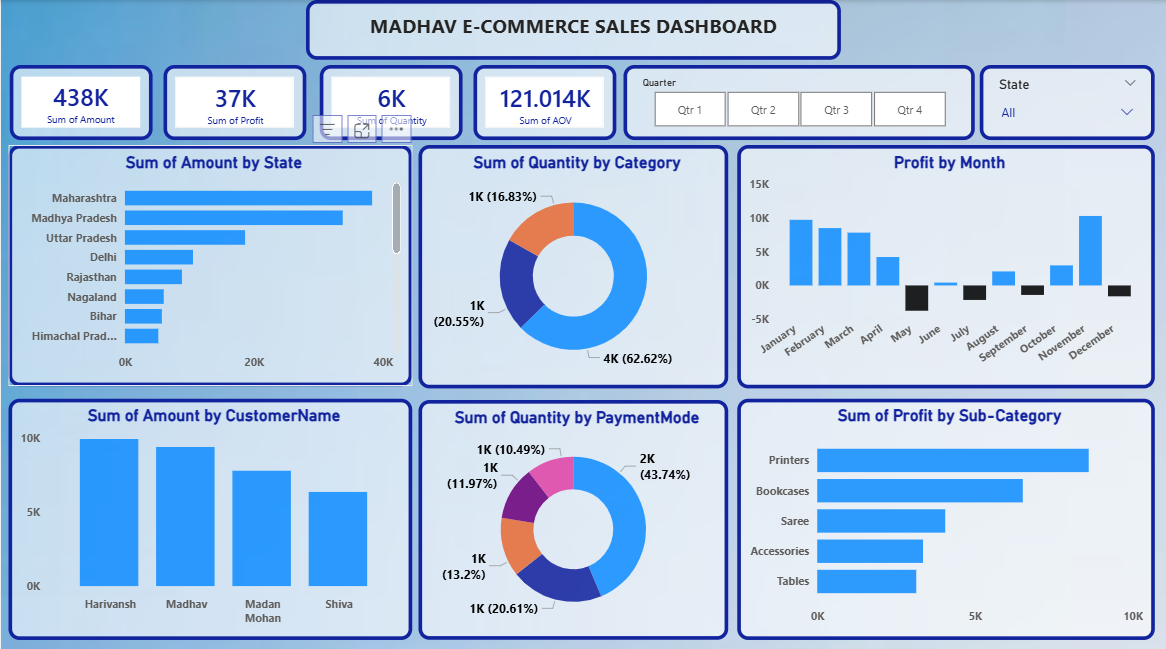

This screenshot's page, from the dashboard's own definition file:
{"tool":"powerbi","page":{"name":"Page 1","canvas":[1280,720],"ordinal":0},"visuals":[{"type":"textbox","box":[334.8,0,587.3,65.9],"z":0},{"type":"columnChart","title":"Profit by Month","fields":{"Y":["Sum(Details.Profit)"],"Category":["Orders.Order Date.Variation.Date Hierarchy.Month"]},"box":[808.2,159.2,458.3,267.6],"z":1000},{"type":"barChart","fields":{"Category":["Details.Sub-Category"],"Y":["Sum(Details.Profit)"]},"box":[808.2,437.7,458.3,264.8],"z":2000},{"type":"donutChart","fields":{"Category":["Details.Category"],"Y":["Sum(Details.Quantity)"]},"box":[458.3,159.2,340.3,267.6],"z":3000},{"type":"donutChart","fields":{"Y":["Sum(Details.Quantity)"],"Category":["Details.PaymentMode"]},"box":[458.3,439.1,340.3,263.5],"z":4000},{"type":"cardVisual","fields":{"Data":["Sum(Details.Amount)"]},"box":[9.6,71.7,156.4,82.3],"z":5000},{"type":"cardVisual","fields":{"Data":["Sum(Details.Profit)"]},"box":[178.4,71.7,156.4,82.3],"z":6000},{"type":"cardVisual","fields":{"Data":["Sum(Details.Quantity)"]},"box":[349.9,71.7,156.4,82.3],"z":7000},{"type":"cardVisual","fields":{"Data":["Sum(Details.AOV)"]},"box":[518.7,71.7,156.4,82.3],"z":8000},{"type":"barChart","fields":{"Category":["Orders.State"],"Y":["Sum(Details.Amount)"]},"box":[8.2,159.2,443.2,264.8],"z":9000},{"type":"columnChart","fields":{"Category":["Orders.CustomerName"],"Y":["Sum(Details.Amount)"]},"box":[8.2,437.7,443.2,264.8],"z":10000},{"type":"slicer","fields":{"Values":["Orders.Order Date.Variation.Date Hierarchy.Quarter"]},"box":[683.4,71.4,385.6,82.3],"z":10001},{"type":"slicer","fields":{"Values":["Orders.State"]},"box":[1074.4,71.4,192.1,82.3],"z":10002}]}

Visuals, with their boxes in screenshot pixels (x1, y1, x2, y2), scaled from the page's 1280x720 canvas onto the 1166x649 screenshot:
textbox: x1=305 y1=0 x2=840 y2=59
"Profit by Month" columnChart: x1=736 y1=144 x2=1154 y2=385
barChart - Details.Sub-Category x Sum(Details.Profit): x1=736 y1=395 x2=1154 y2=633
donutChart - Details.Category x Sum(Details.Quantity): x1=417 y1=144 x2=727 y2=385
donutChart - Sum(Details.Quantity) x Details.PaymentMode: x1=417 y1=396 x2=727 y2=633
cardVisual - Sum(Details.Amount): x1=9 y1=65 x2=151 y2=139
cardVisual - Sum(Details.Profit): x1=163 y1=65 x2=305 y2=139
cardVisual - Sum(Details.Quantity): x1=319 y1=65 x2=461 y2=139
cardVisual - Sum(Details.AOV): x1=473 y1=65 x2=615 y2=139
barChart - Orders.State x Sum(Details.Amount): x1=7 y1=144 x2=411 y2=382
columnChart - Orders.CustomerName x Sum(Details.Amount): x1=7 y1=395 x2=411 y2=633
slicer - Orders.Order Date.Variation.Date Hierarchy.Quarter: x1=623 y1=64 x2=974 y2=139
slicer - Orders.State: x1=979 y1=64 x2=1154 y2=139
